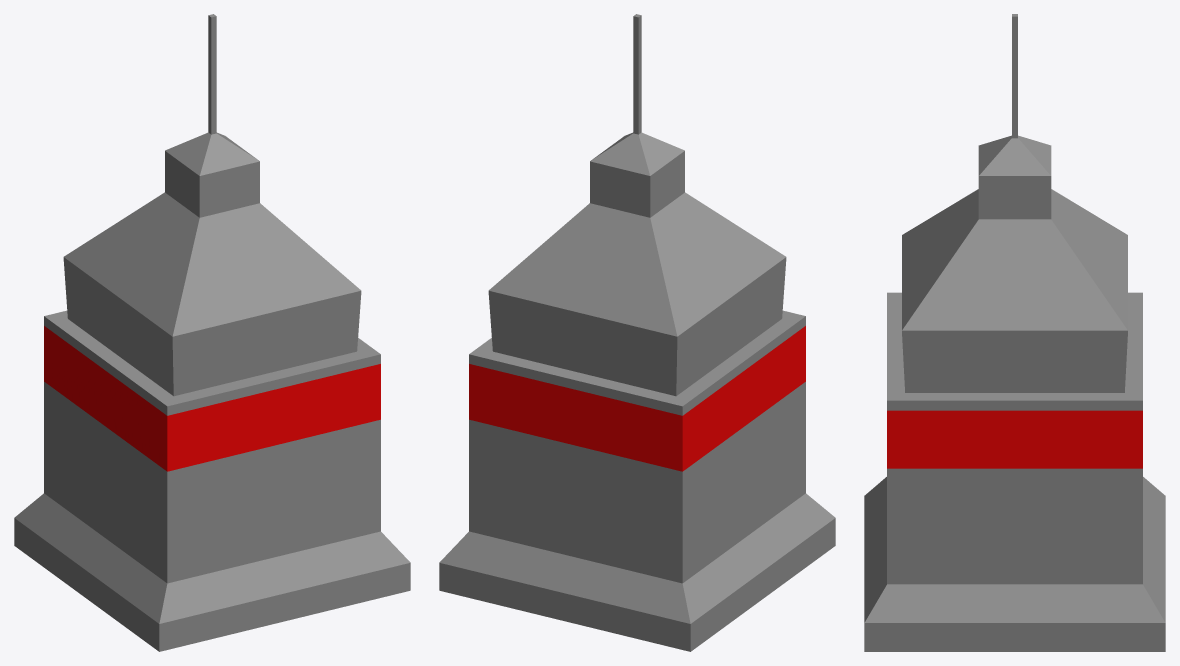
The model's file is Tower01.FBX.
3 views of the same model, side by side, from view 1: azimuth 30°, elevation 25°; view 2: azimuth 150°, elevation 25°; view 3: azimuth 270°, elevation 25° (orthographic). The views are drawn at different scales.
Parts seen in each view (by area): view 1: Tower01Bottom, Tower01Top, Tower01Mid; view 2: Tower01Bottom, Tower01Top, Tower01Mid; view 3: Tower01Bottom, Tower01Top, Tower01Mid.
Boxes of the visible parts, <box> form: Tower01Bottom: <box>14,382,410,651</box>; Tower01Top: <box>44,14,380,415</box>; Tower01Mid: <box>44,326,380,471</box>; Tower01Bottom: <box>439,382,835,651</box>; Tower01Top: <box>469,14,805,415</box>; Tower01Mid: <box>469,326,805,471</box>; Tower01Bottom: <box>864,468,1165,651</box>; Tower01Top: <box>887,14,1142,410</box>; Tower01Mid: <box>887,410,1142,468</box>.
Bounding box in the file's own units: 47.07 × 98.86 × 47.07.
